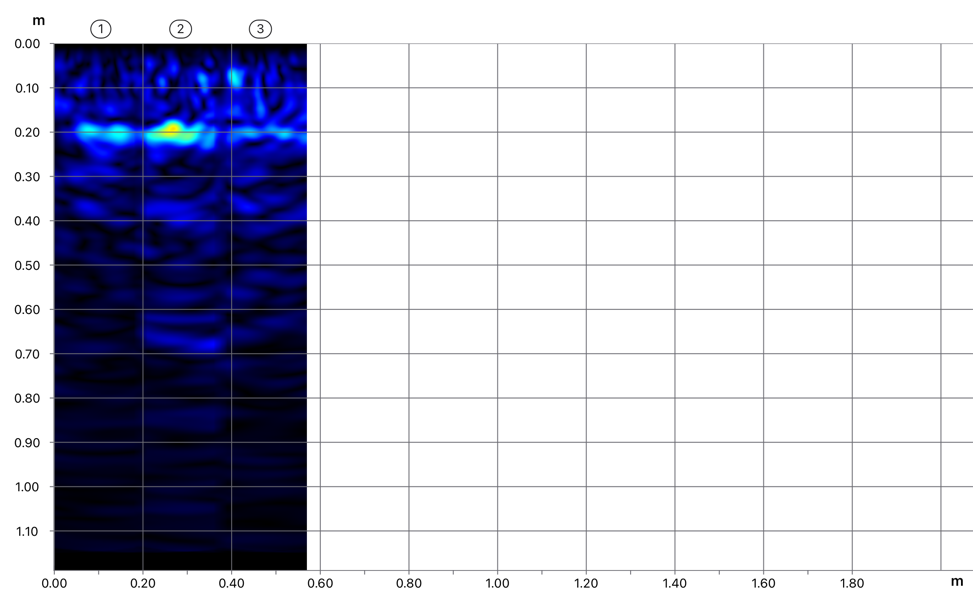crop: (0, 2, 306, 288)
